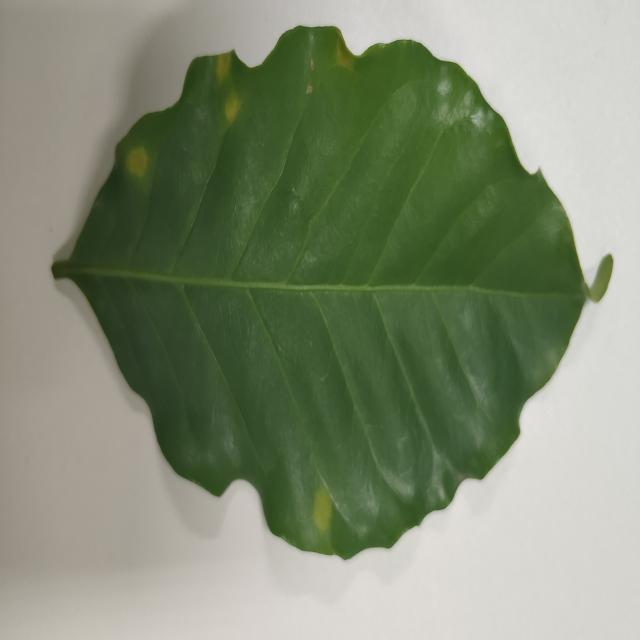Enfermedad-Roya: (51, 26, 613, 561)
